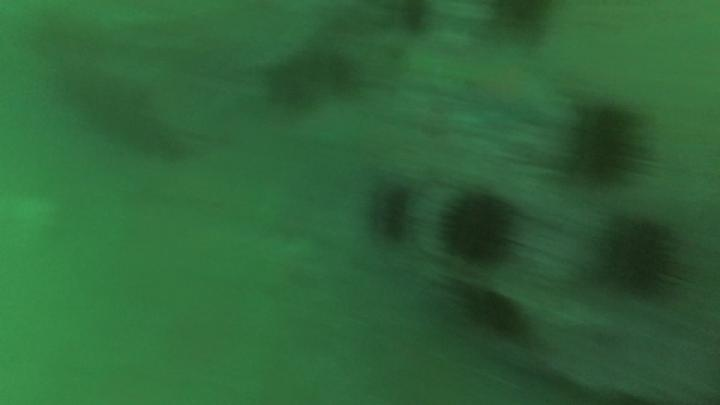echinus: (557, 95, 644, 191), (592, 212, 675, 310), (437, 190, 522, 267), (464, 285, 527, 339)
